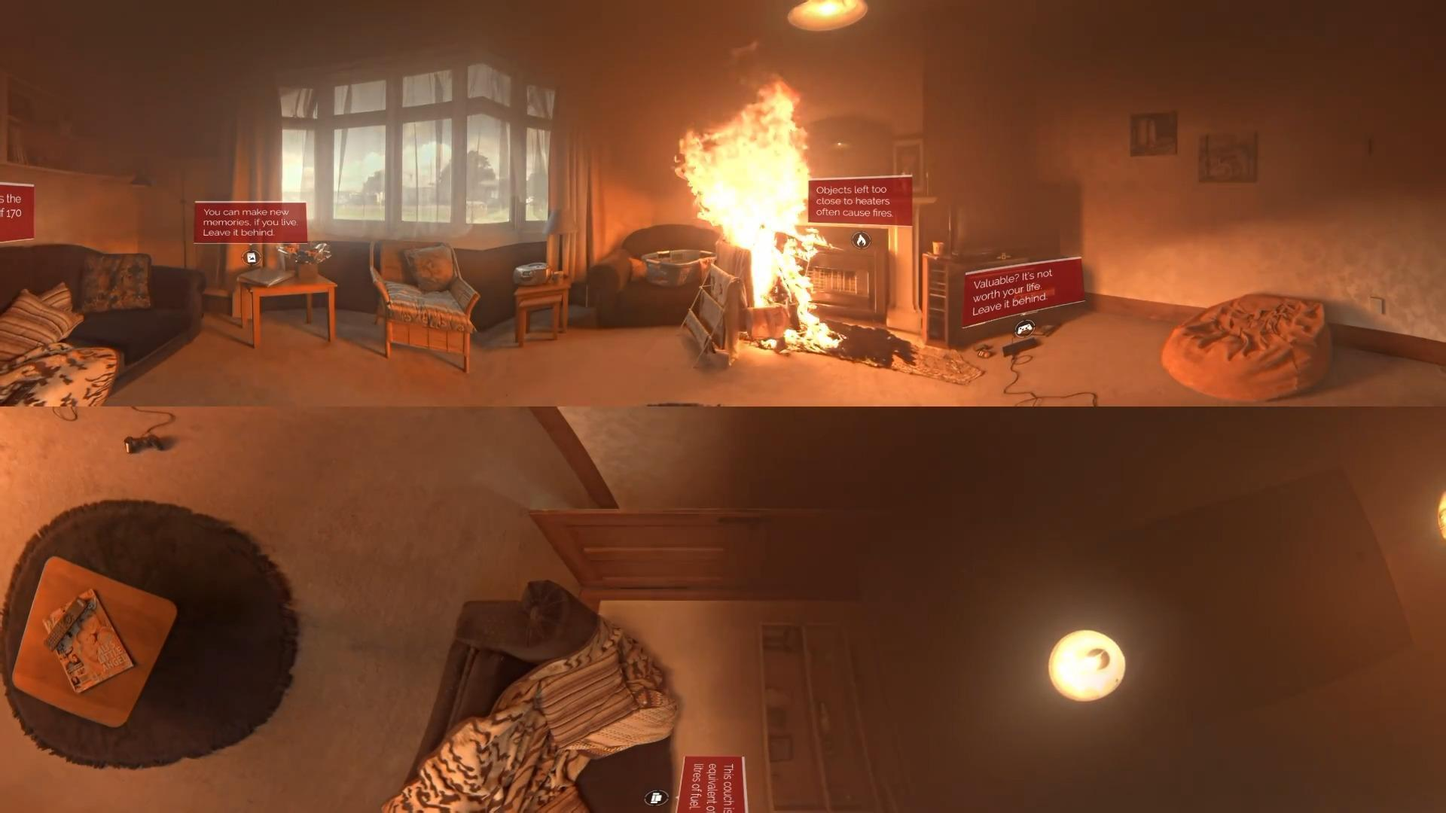fire: (677, 59, 843, 352)
